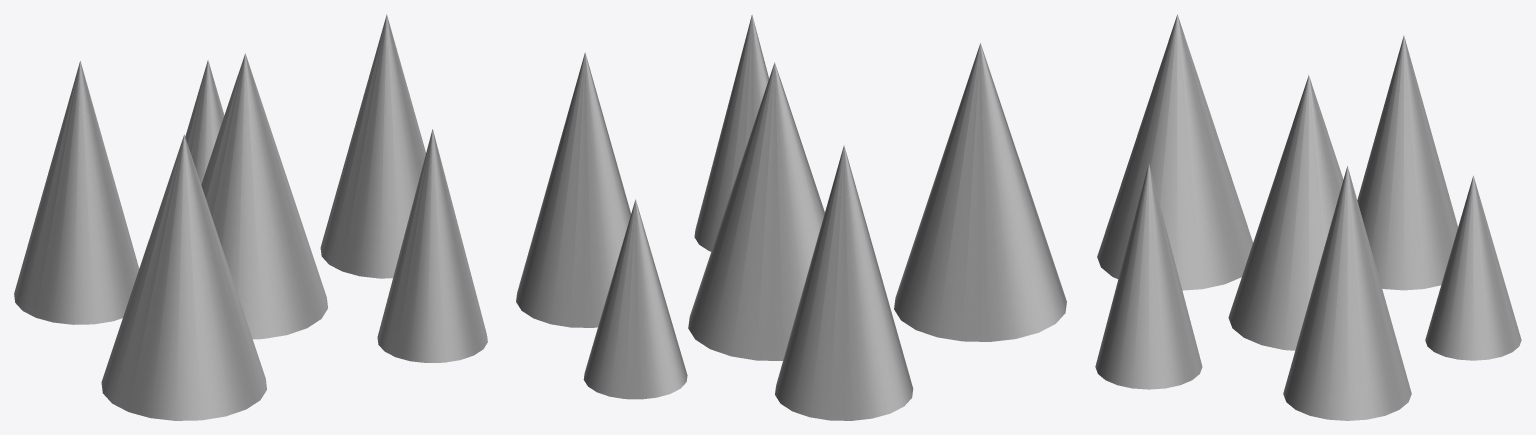
The model's file is spikes.FBX.
3 views of the same model, side by side, from view 1: azimuth 30°, elevation 25°; view 2: azimuth 150°, elevation 25°; view 3: azimuth 270°, elevation 25° (orthographic). The views are drawn at different scales.
Visible parts, largest first — view 1: Cone031; view 2: Cone031; view 3: Cone031.
Boxes of the visible parts, bbox=[...] form: Cone031: bbox=[14, 14, 487, 420]; Cone031: bbox=[516, 14, 1066, 420]; Cone031: bbox=[1095, 14, 1521, 420].
Bounding box in the file's own units: 0.8741 × 0.7953 × 0.5.
